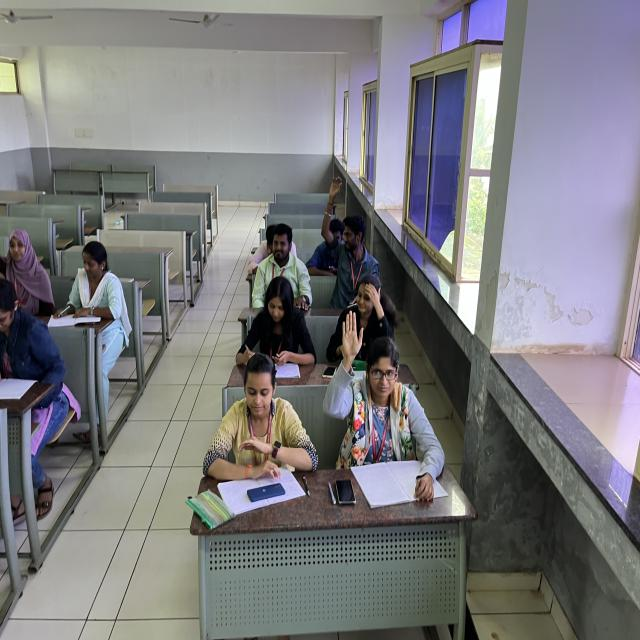Hand Rising: (332, 306, 424, 497), (319, 166, 387, 308)
